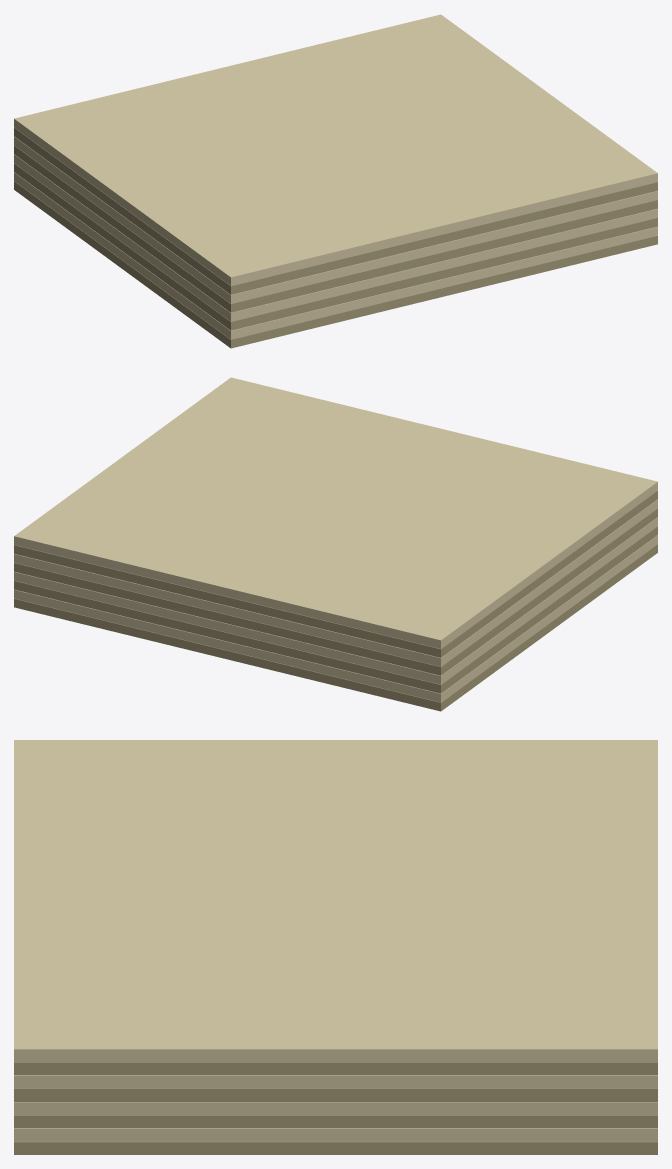
The model's file is paper.glb.
3 views of the same model, one above another, from view 1: azimuth 30°, elevation 25°; view 2: azimuth 150°, elevation 25°; view 3: azimuth 270°, elevation 25° (orthographic). The views are drawn at different scales.
Parts seen in each view (by area): view 1: PaperLayer_7, PaperLayer_3, PaperLayer_4, PaperLayer_0, PaperLayer_1, PaperLayer_2, PaperLayer_5, PaperLayer_6; view 2: PaperLayer_7, PaperLayer_3, PaperLayer_4, PaperLayer_0, PaperLayer_1, PaperLayer_2, PaperLayer_5, PaperLayer_6; view 3: PaperLayer_7, PaperLayer_0, PaperLayer_1, PaperLayer_2, PaperLayer_4, PaperLayer_5, PaperLayer_6, PaperLayer_3.
Part boxes in pixels (x1=…): PaperLayer_7: x1=14, y1=14, x2=657, y2=285; PaperLayer_3: x1=14, y1=154, x2=657, y2=321; PaperLayer_4: x1=14, y1=145, x2=657, y2=312; PaperLayer_0: x1=14, y1=181, x2=657, y2=348; PaperLayer_1: x1=14, y1=172, x2=657, y2=339; PaperLayer_2: x1=14, y1=163, x2=657, y2=330; PaperLayer_5: x1=14, y1=136, x2=657, y2=303; PaperLayer_6: x1=14, y1=127, x2=657, y2=294; PaperLayer_7: x1=14, y1=377, x2=657, y2=648; PaperLayer_3: x1=14, y1=517, x2=657, y2=684; PaperLayer_4: x1=14, y1=508, x2=657, y2=675; PaperLayer_0: x1=14, y1=544, x2=657, y2=711; PaperLayer_1: x1=14, y1=535, x2=657, y2=702; PaperLayer_2: x1=14, y1=526, x2=657, y2=693; PaperLayer_5: x1=14, y1=499, x2=657, y2=666; PaperLayer_6: x1=14, y1=490, x2=657, y2=657; PaperLayer_7: x1=14, y1=740, x2=657, y2=1061; PaperLayer_0: x1=14, y1=1141, x2=657, y2=1154; PaperLayer_1: x1=14, y1=1128, x2=657, y2=1141; PaperLayer_2: x1=14, y1=1115, x2=657, y2=1128; PaperLayer_4: x1=14, y1=1088, x2=657, y2=1101; PaperLayer_5: x1=14, y1=1075, x2=657, y2=1088; PaperLayer_6: x1=14, y1=1062, x2=657, y2=1075; PaperLayer_3: x1=14, y1=1102, x2=657, y2=1114.
Size of the model in its own units: 0.5 by 0.0796 by 0.44.
